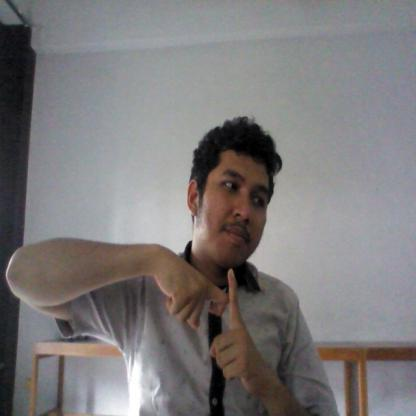K: (155, 239, 266, 396)
